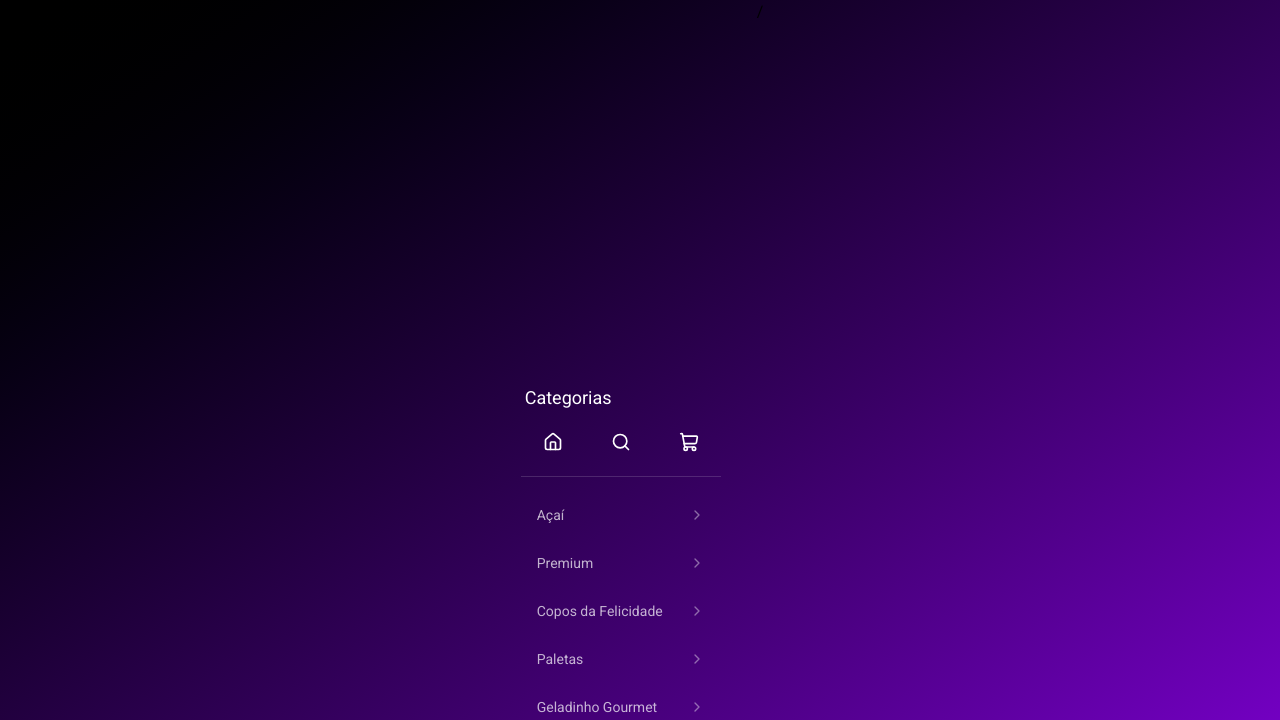
AppContentShell › should close search when clicking outside the floating panel
Click the button named "Buscar". click: (621, 442)
box: [589,420,653,464]
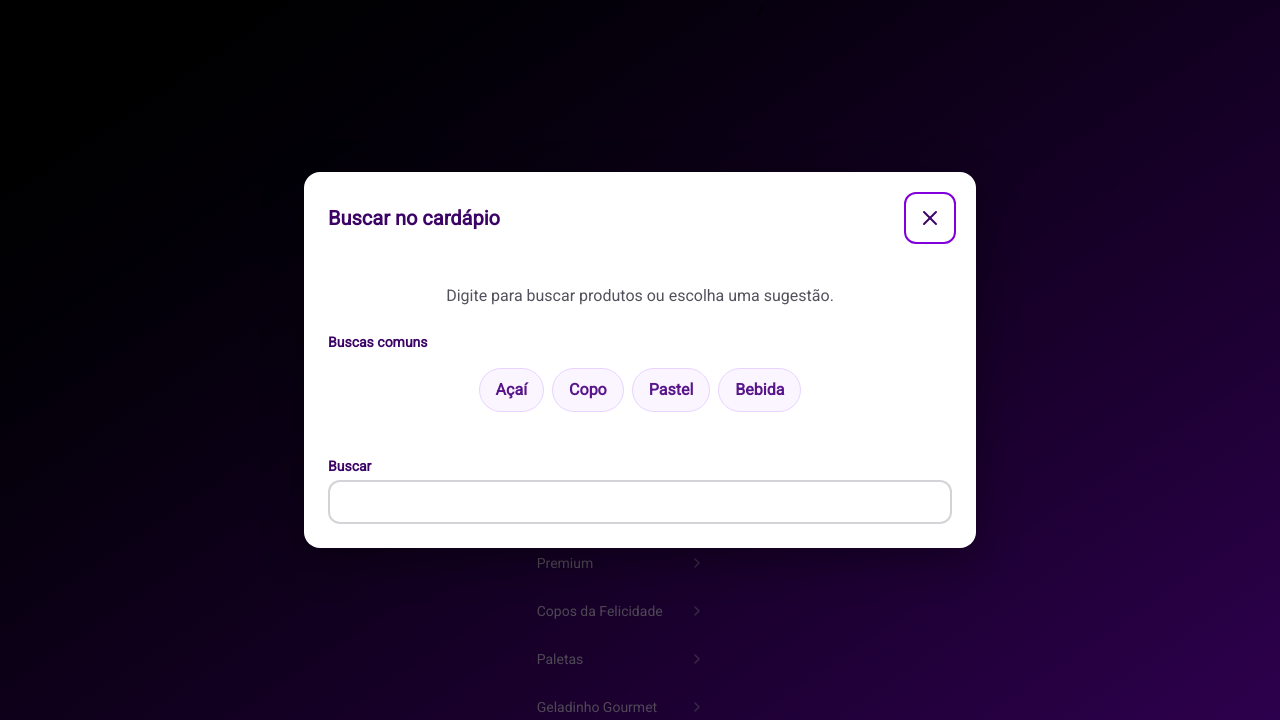
Expected: the dialog is shown
Click the dialog. click: (640, 525)
box: [304,172,976,548]
Wait 300 ms
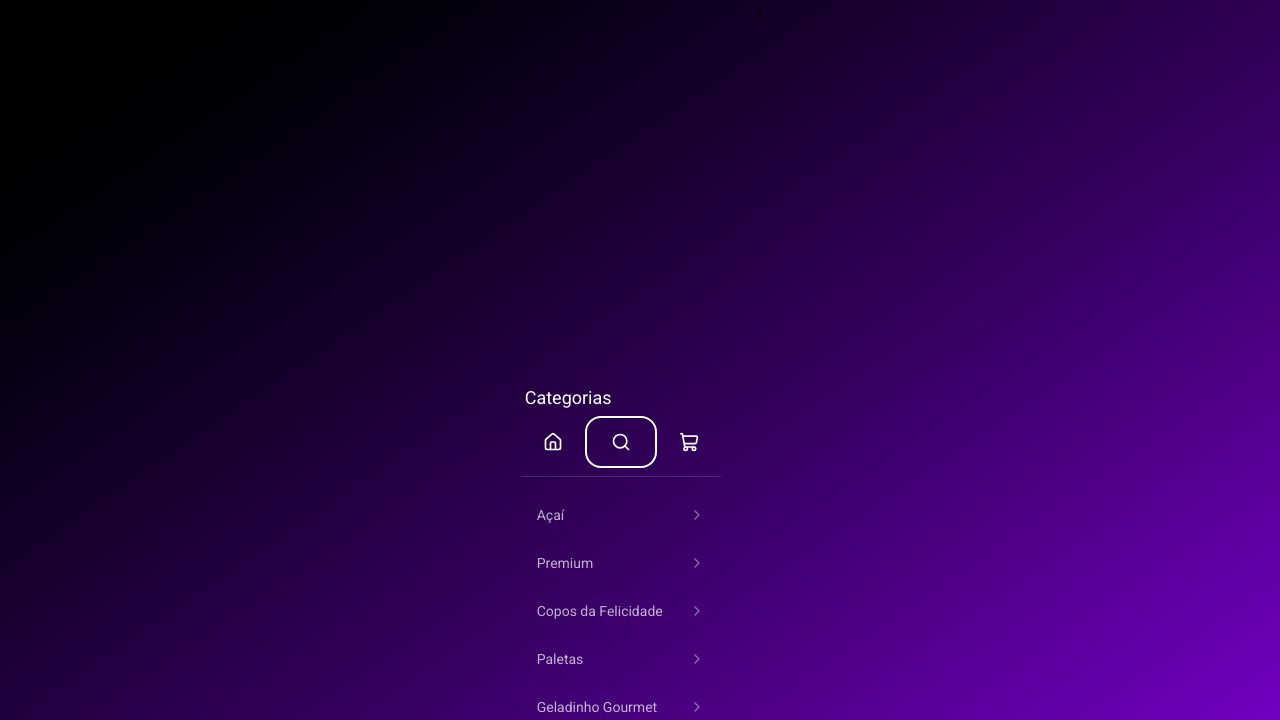
Expected: the dialog is gone
